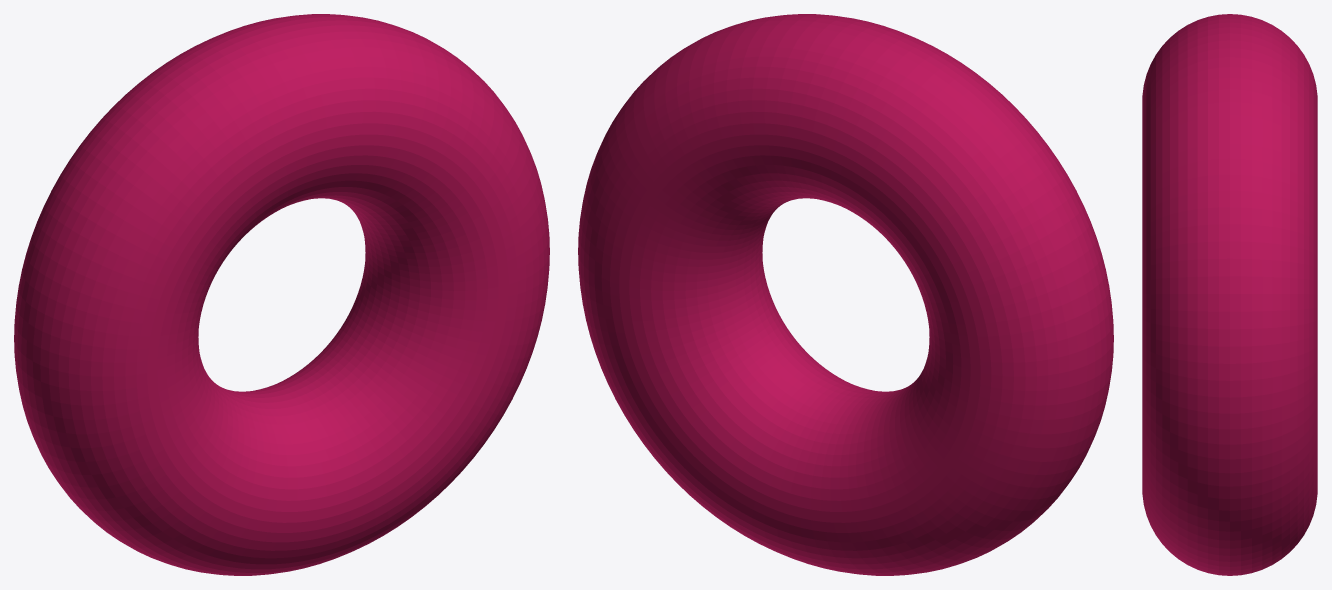
3 renders of one model, left to right at view 1: azimuth 30°, elevation 25°; view 2: azimuth 150°, elevation 25°; view 3: azimuth 270°, elevation 25°, orthographic. The views are drawn at different scales.
Parts seen in each view (by area): view 1: world; view 2: world; view 3: world.
Part boxes in pixels (x1,y1,x2,y2): world: (14,14,549,575); world: (578,14,1113,575); world: (1142,14,1317,575).
Size of the model in its own units: 32 by 32 by 9.98.
